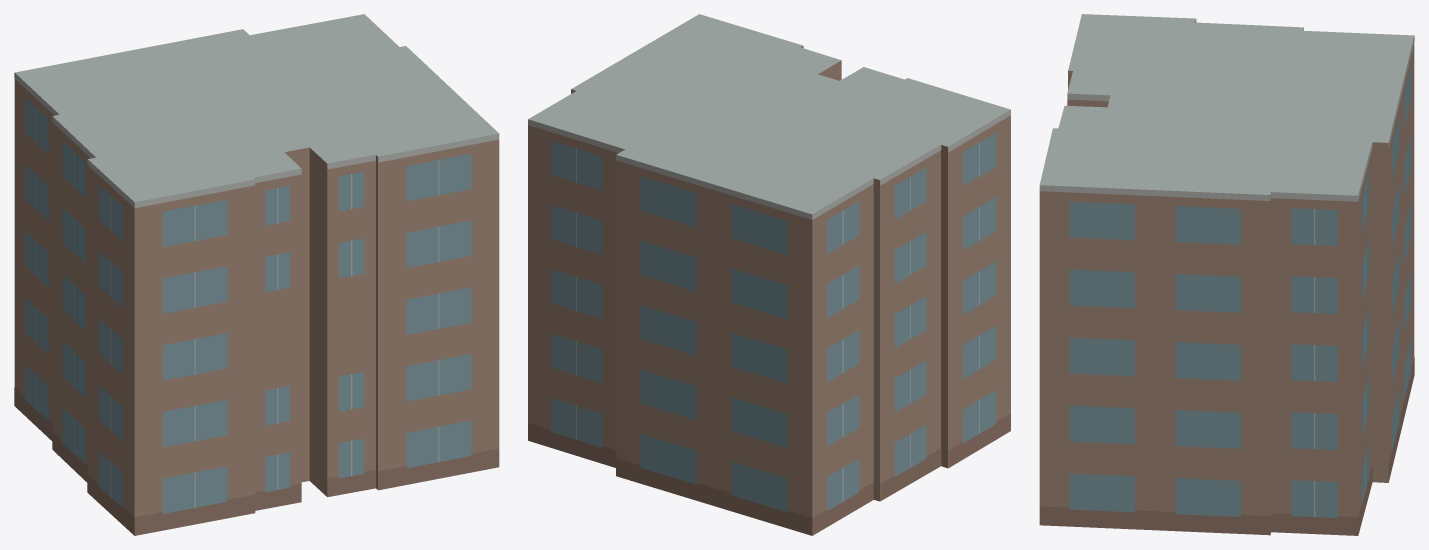
Rendered from survey-upis-32657764.glb.
The picture shows the model from 3 angles, left to right: view 1: azimuth 30°, elevation 25°; view 2: azimuth 150°, elevation 25°; view 3: azimuth 270°, elevation 25°; orthographic projection. The views are drawn at different scales.
Parts seen in each view (by area): view 1: survey-upis-32657764.tmp; view 2: survey-upis-32657764.tmp; view 3: survey-upis-32657764.tmp.
Part boxes in pixels (bbox=[...]): survey-upis-32657764.tmp: bbox=[14, 14, 499, 535]; survey-upis-32657764.tmp: bbox=[528, 14, 1010, 535]; survey-upis-32657764.tmp: bbox=[1039, 14, 1414, 535].
Bounding box in the file's own units: 15.88 × 13.84 × 13.83.
